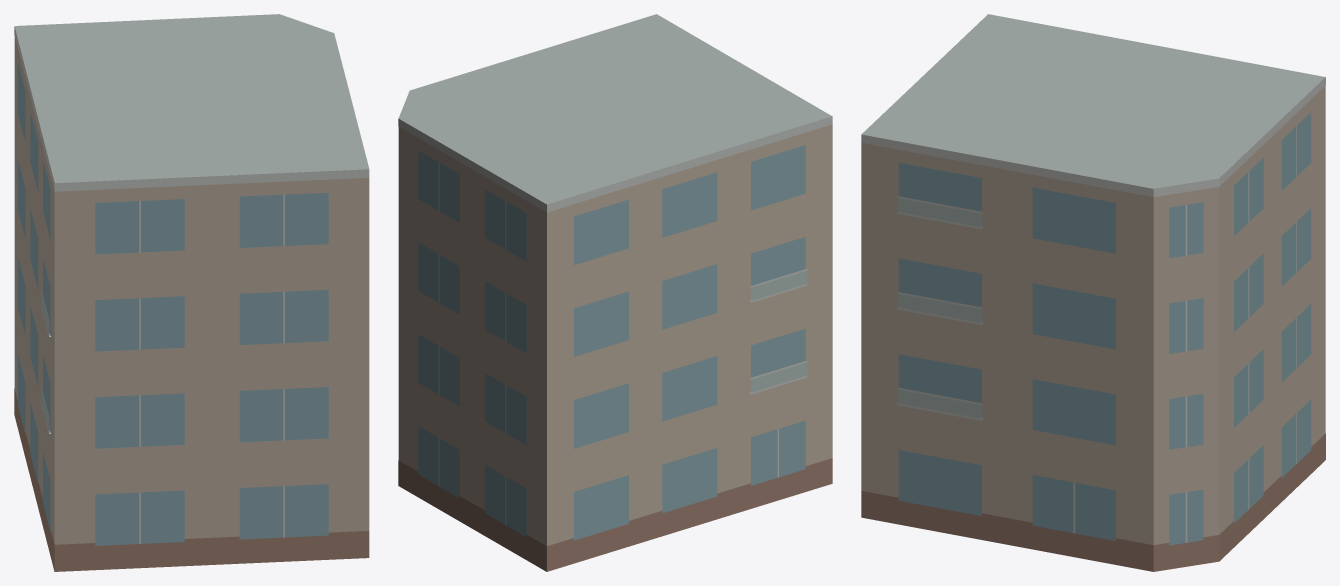
The model's file is survey-upis-33023044.glb.
3 renders of one model, left to right at view 1: azimuth 30°, elevation 25°; view 2: azimuth 150°, elevation 25°; view 3: azimuth 270°, elevation 25°, orthographic. The views are drawn at different scales.
Parts seen in each view (by area): view 1: survey-upis-33023044.tmp; view 2: survey-upis-33023044.tmp; view 3: survey-upis-33023044.tmp.
Part boxes in pixels (box(x1,y1,x2,y2)): survey-upis-33023044.tmp: box(14, 14, 369, 571); survey-upis-33023044.tmp: box(398, 14, 832, 571); survey-upis-33023044.tmp: box(861, 14, 1325, 571).
Bounding box in the file's own units: 10.97 × 11.2 × 12.32.
